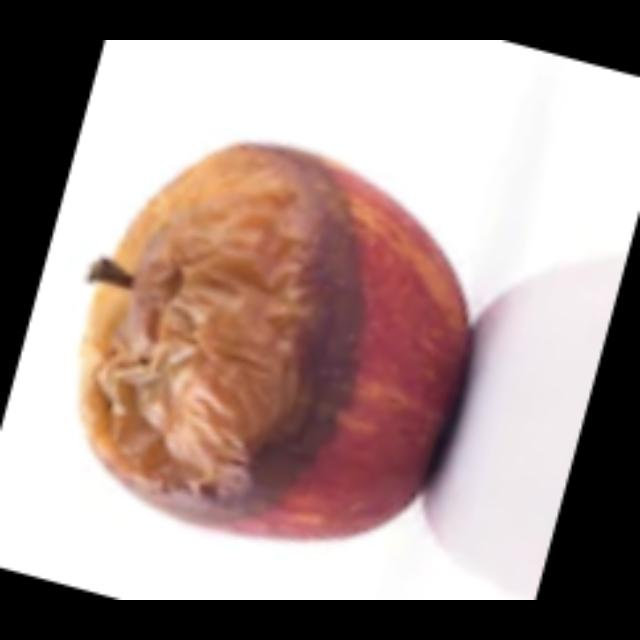Apel Tidak Segar: (71, 134, 477, 552)
